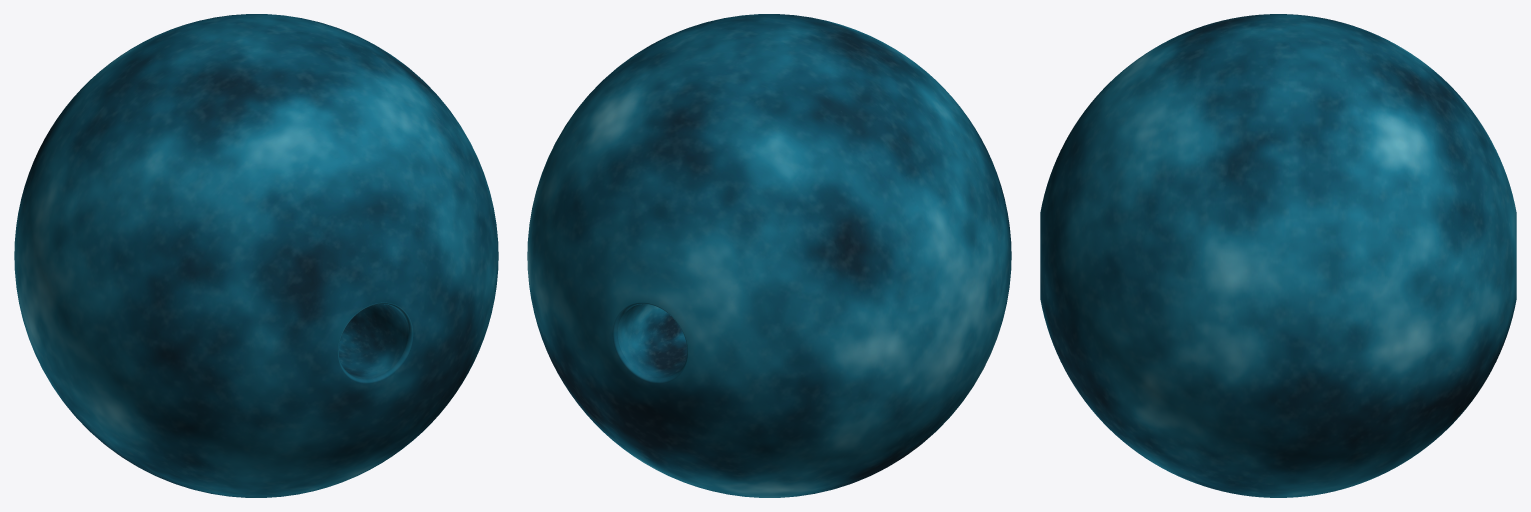
File: blue-apatite-6mm.glb
The picture shows the model from 3 angles, left to right: view 1: azimuth 30°, elevation 25°; view 2: azimuth 150°, elevation 25°; view 3: azimuth 270°, elevation 25°; orthographic projection.
Visible parts, largest first — view 1: blue-apatite.001; view 2: blue-apatite.001; view 3: blue-apatite.001.
Boxes of the visible parts, x1,y1,x2,y2 form: blue-apatite.001: [14, 14, 498, 497]; blue-apatite.001: [527, 14, 1011, 497]; blue-apatite.001: [1040, 14, 1516, 497].
Bounding box in the file's own units: 0.006 × 0.006 × 0.0059.
Materials: 2 (1 with a texture image).
